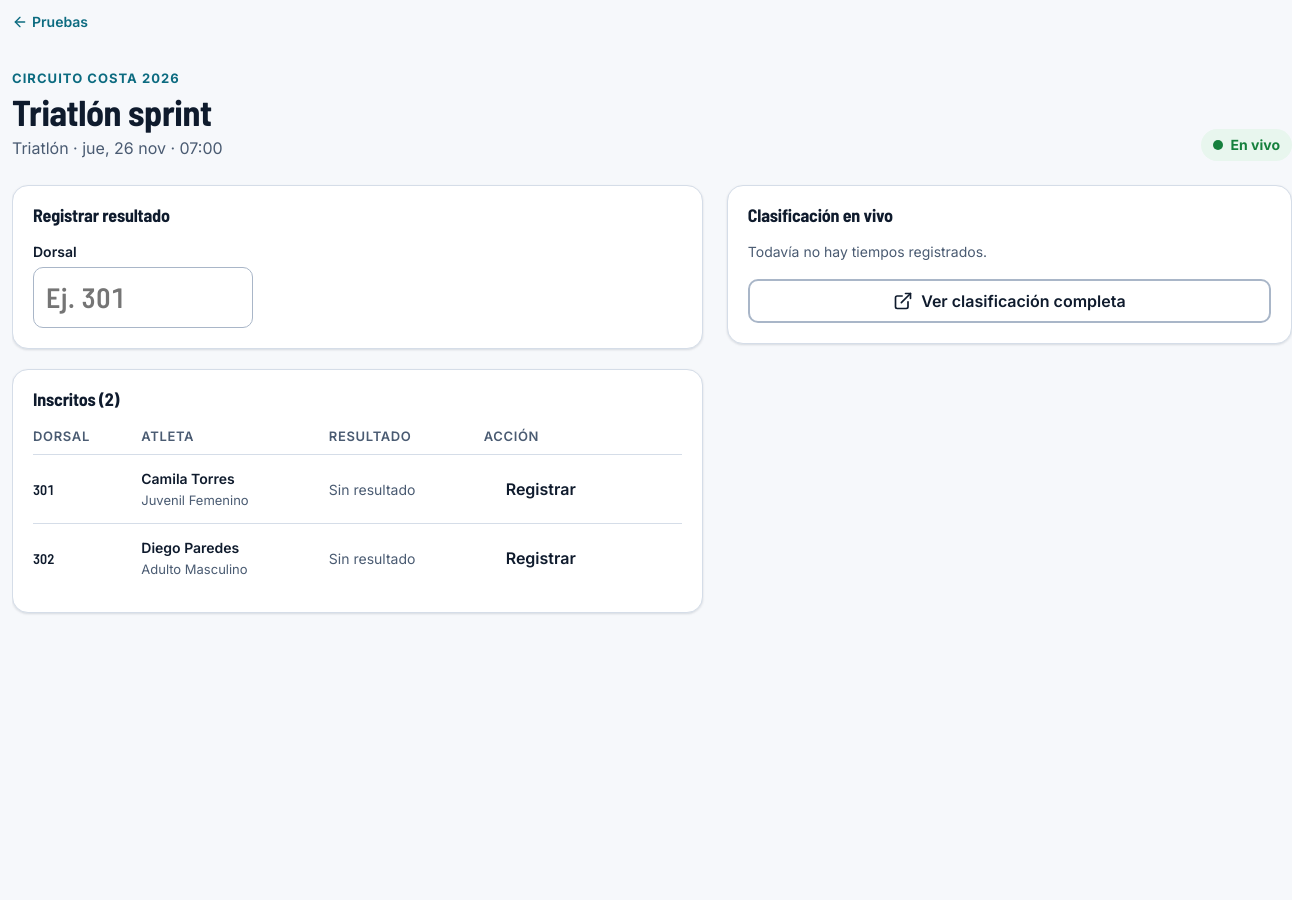
Test: RegistroTiemposPage › muestra el error del servidor
The width and height of the screenshot is (1292, 900).
Expected: the heading "Triatlón sprint" is shown, [12, 92, 223, 132]
In the field labelled "Dorsal": {"x": 143, "y": 298} [33, 267, 253, 328], type "301"
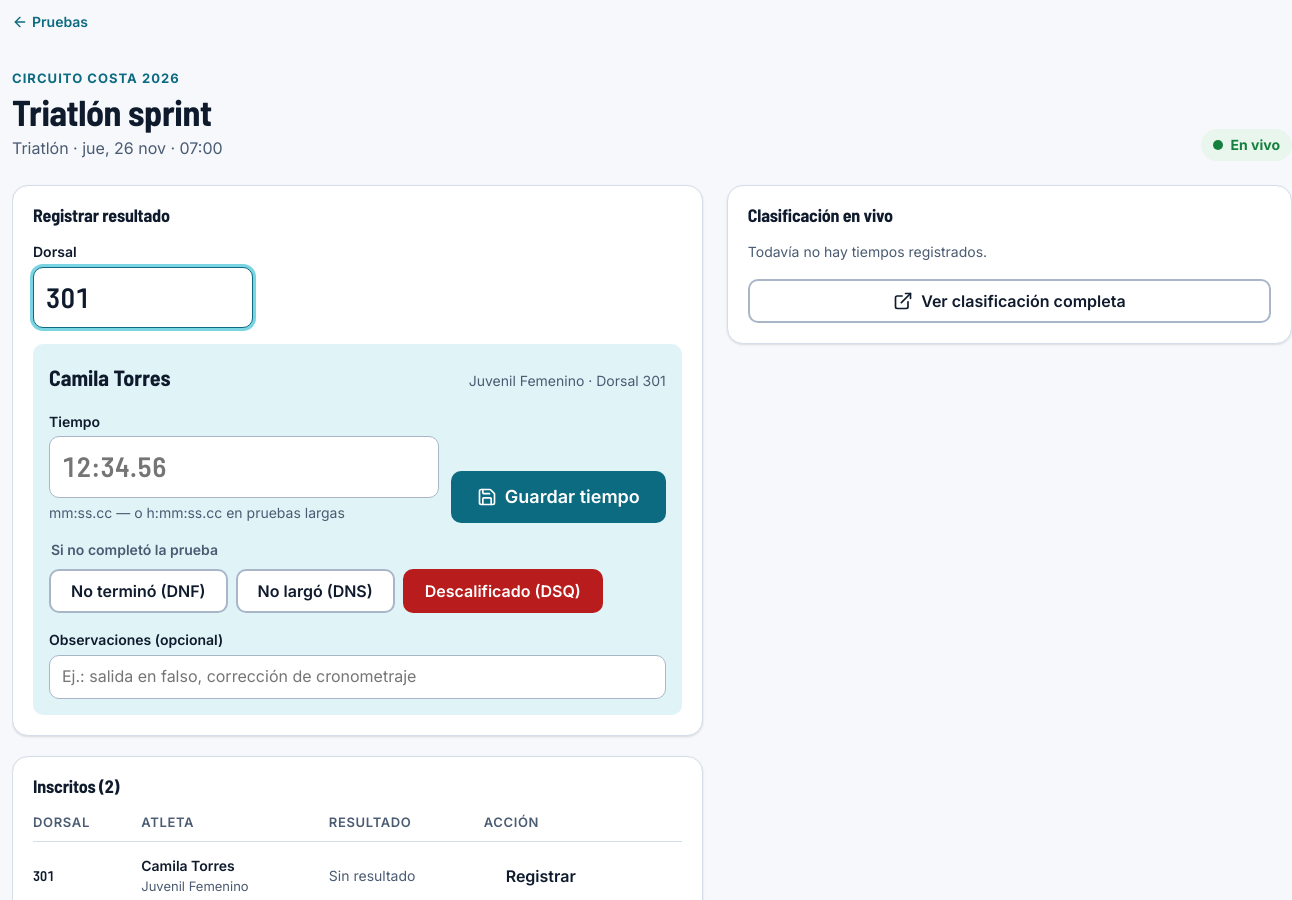
Click the button "No largó (DNS)": {"x": 315, "y": 591} [236, 569, 395, 613]
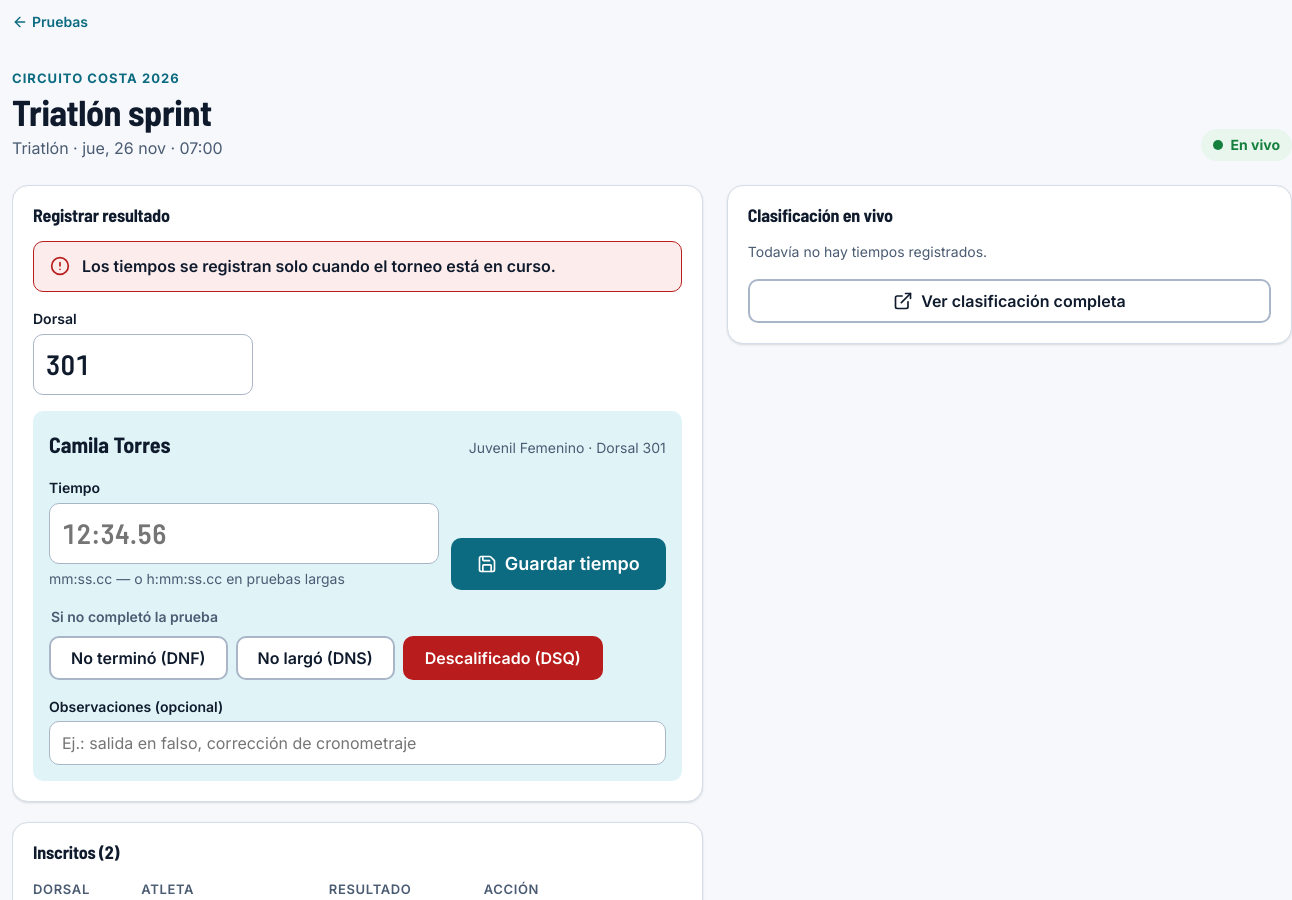
Expected: the text "Los tiempos se registran solo cuando el torneo está en curso." is shown, [82, 256, 556, 276]
